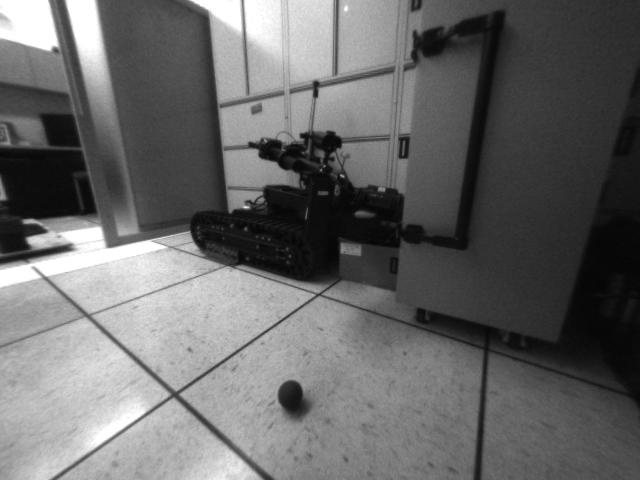dogtoy: (273, 370, 315, 417)
